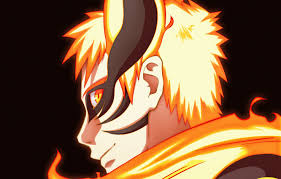Naruto: (70, 1, 225, 177)
